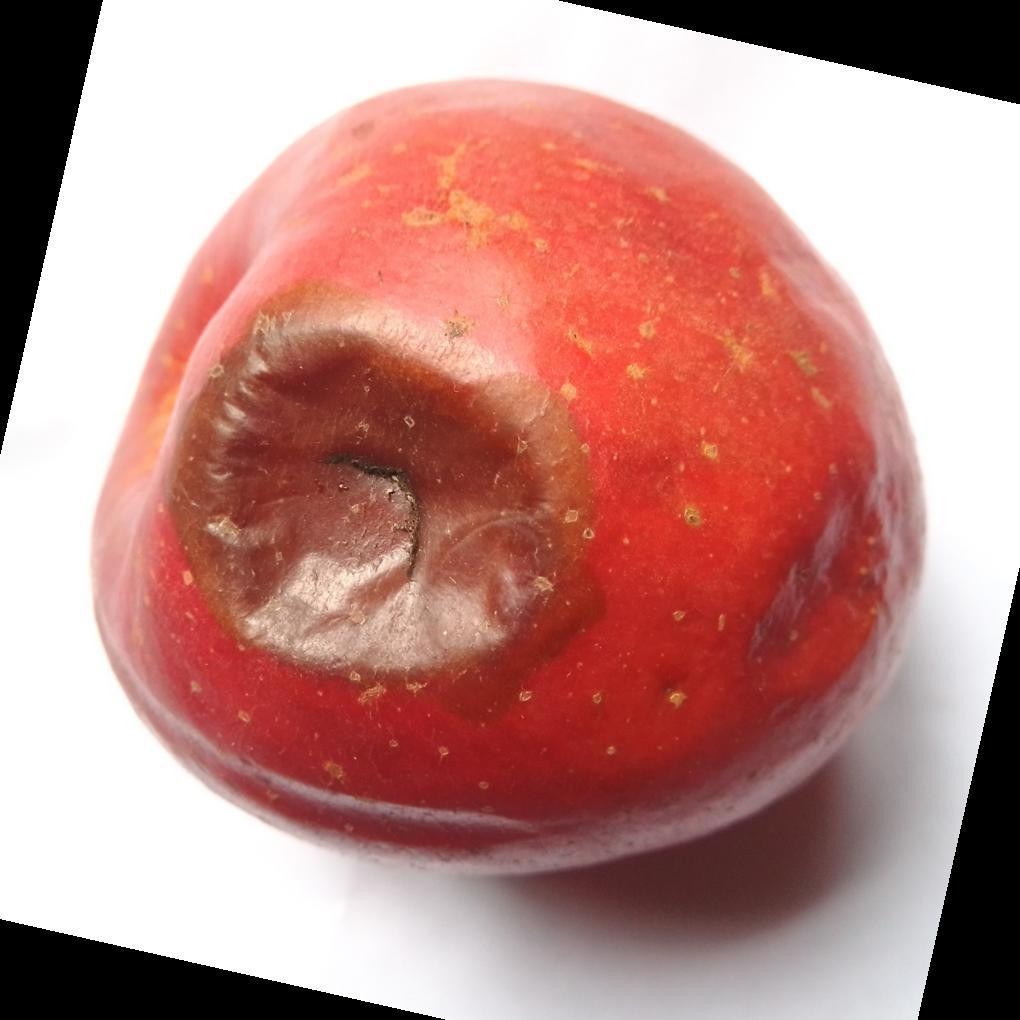FreshOrange: (85, 77, 931, 884)
